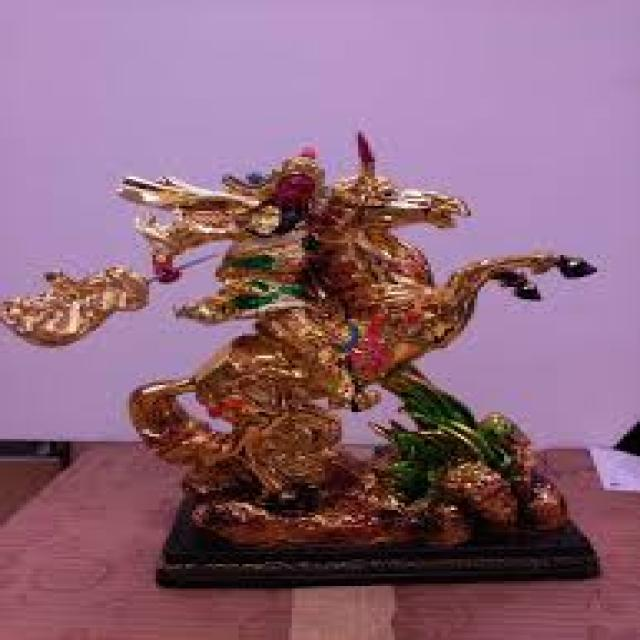Guan Yu: (202, 144, 342, 316)
